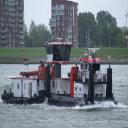tugboat: (49, 28, 121, 112), (2, 33, 75, 113)
